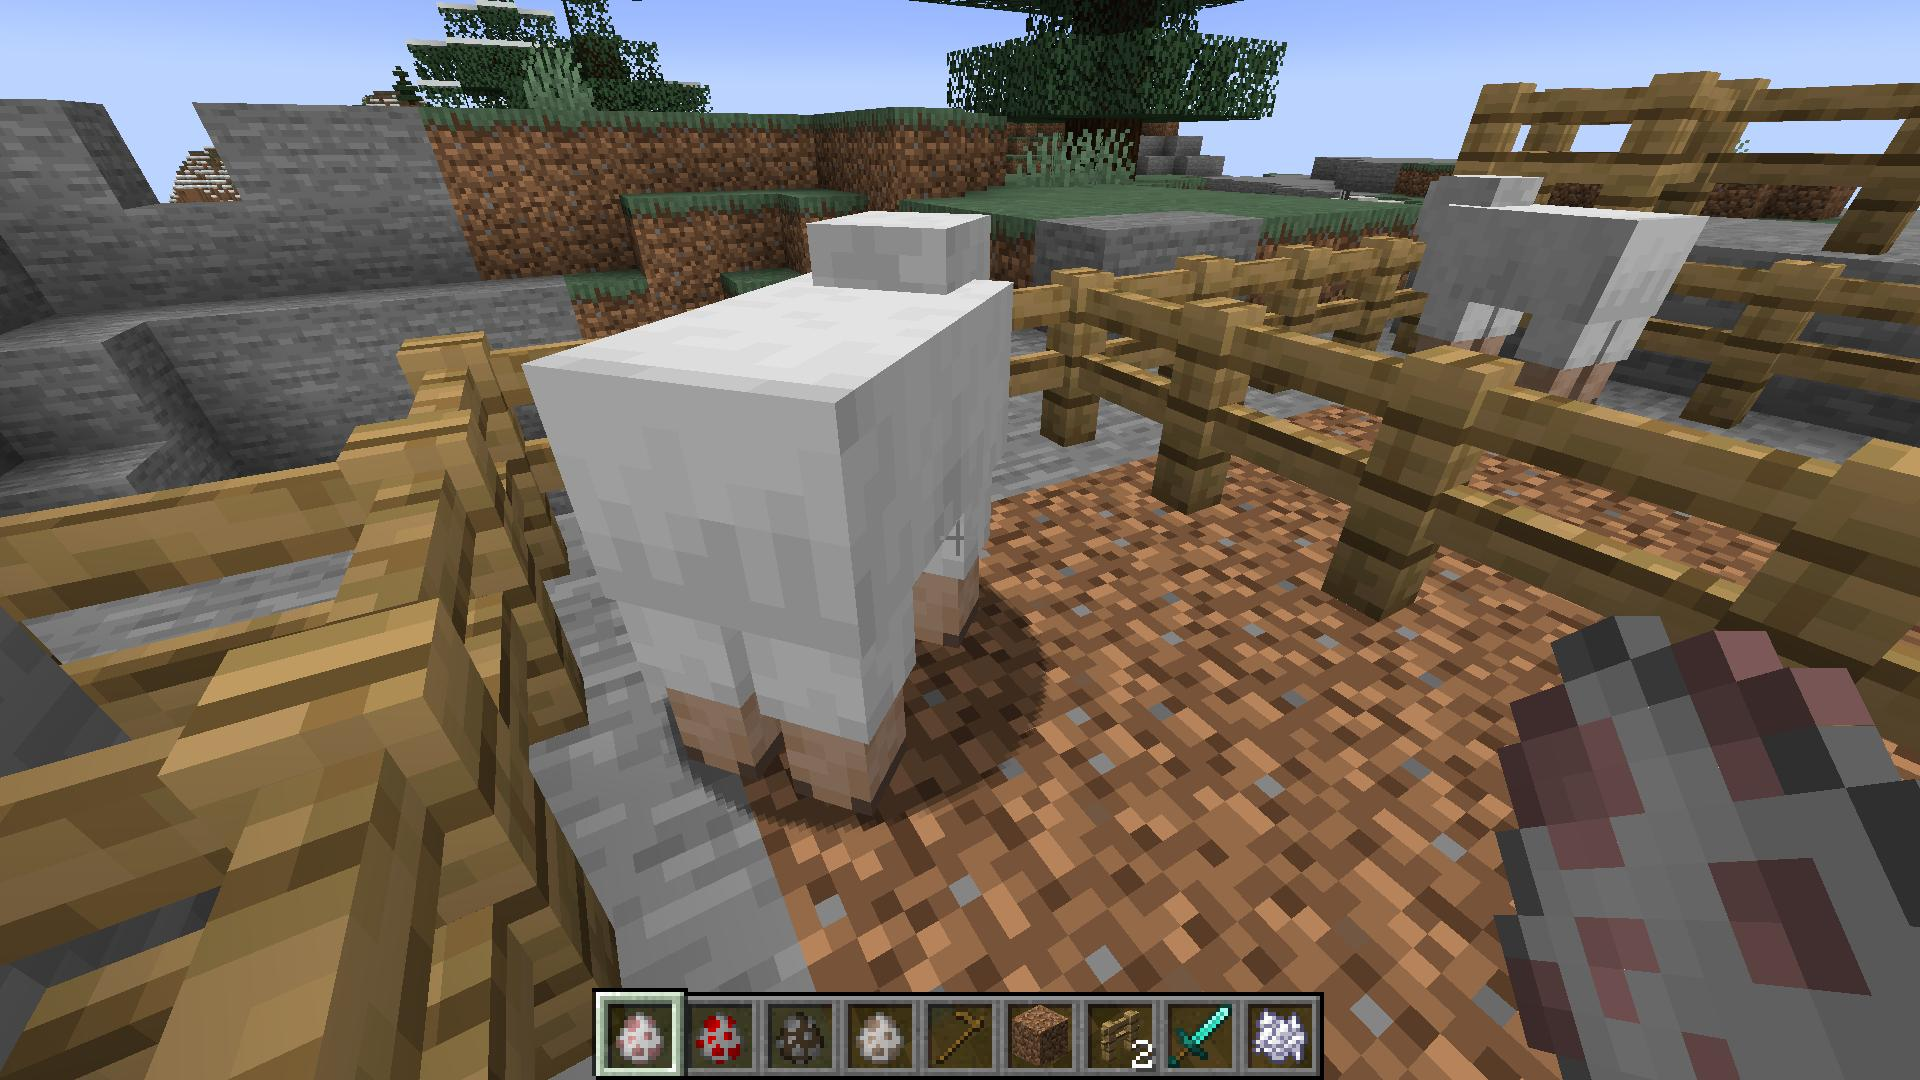sheep: (522, 204, 1031, 819), (1407, 167, 1710, 413)
